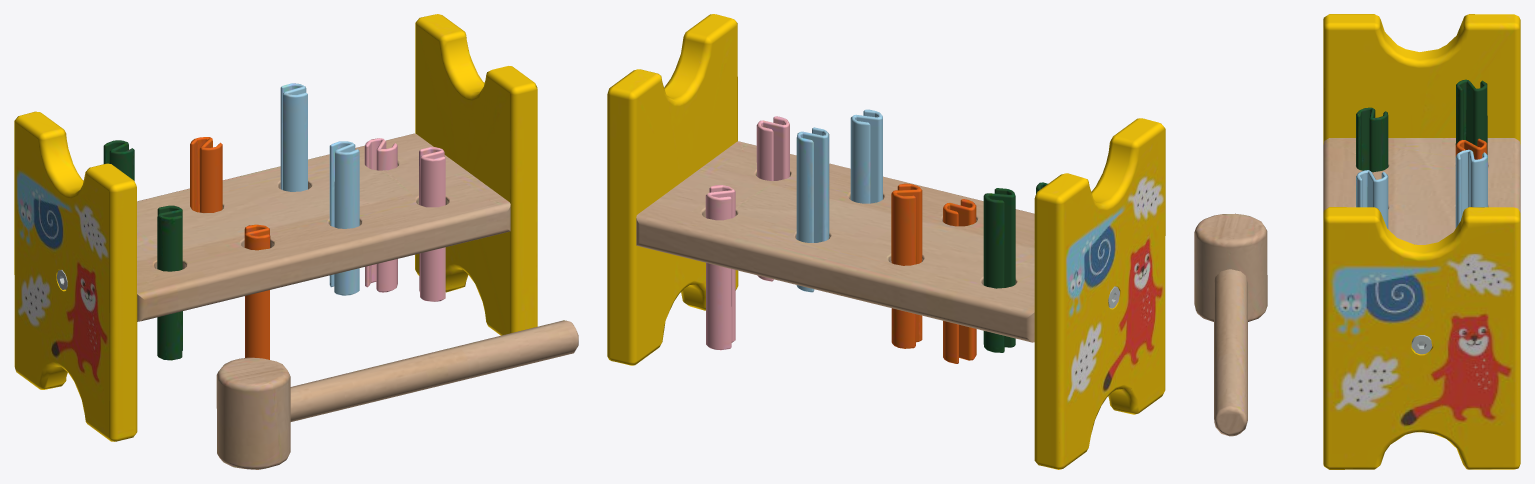
The model's file is uppsta_przebijanka_60513889.glb.
The picture shows the model from 3 angles, left to right: view 1: azimuth 30°, elevation 25°; view 2: azimuth 150°, elevation 25°; view 3: azimuth 270°, elevation 25°; orthographic projection. The views are drawn at different scales.
Parts seen in each view (by area): view 1: uppsta_przebijanka_60513889; view 2: uppsta_przebijanka_60513889; view 3: uppsta_przebijanka_60513889.
Boxes of the visible parts, x1,y1,x2,y2 form: uppsta_przebijanka_60513889: (14,14,578,469); uppsta_przebijanka_60513889: (607,14,1165,469); uppsta_przebijanka_60513889: (1194,14,1520,469).
Bounding box in the file's own units: 0.2351 × 0.1351 × 0.1571.
Materials: 1 (1 with a texture image).
